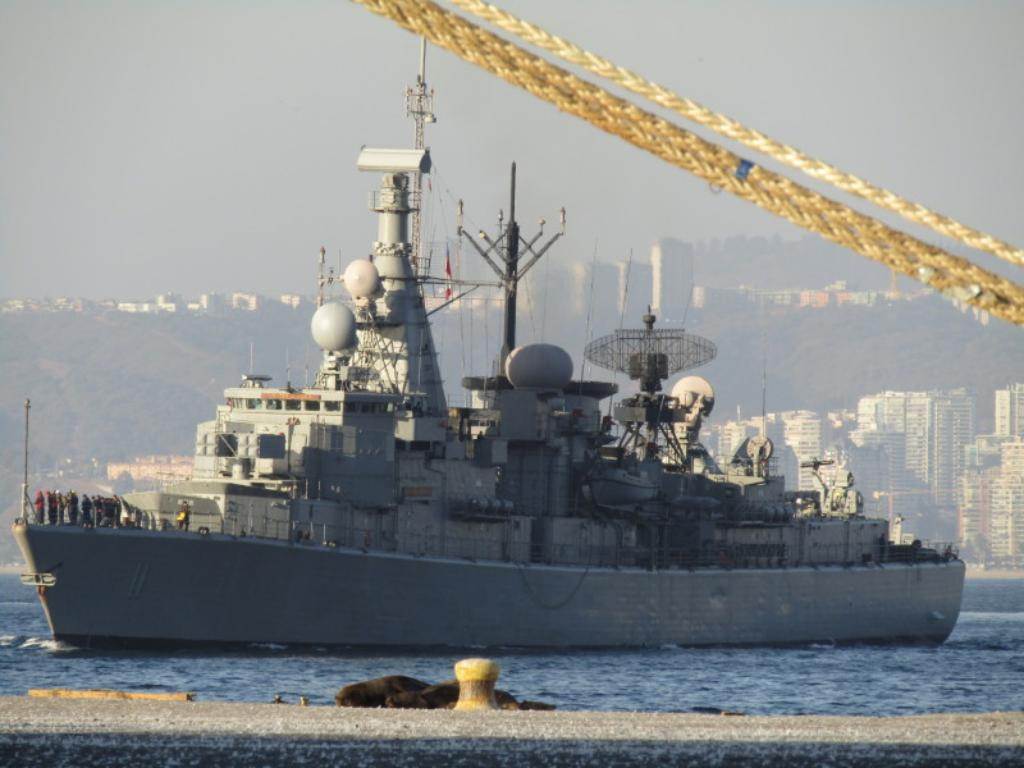Warship: (13, 143, 971, 663)
